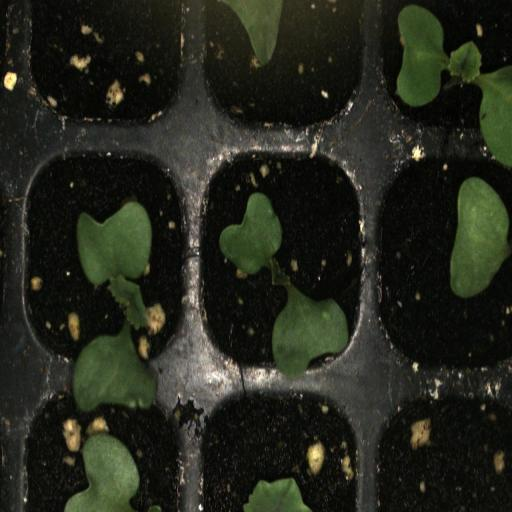Folha: (450, 177, 512, 298), (272, 287, 348, 382), (219, 192, 282, 274), (223, 0, 286, 65), (243, 477, 311, 512)
Germinacao: (10, 140, 190, 384), (192, 139, 369, 375), (375, 0, 512, 144)
